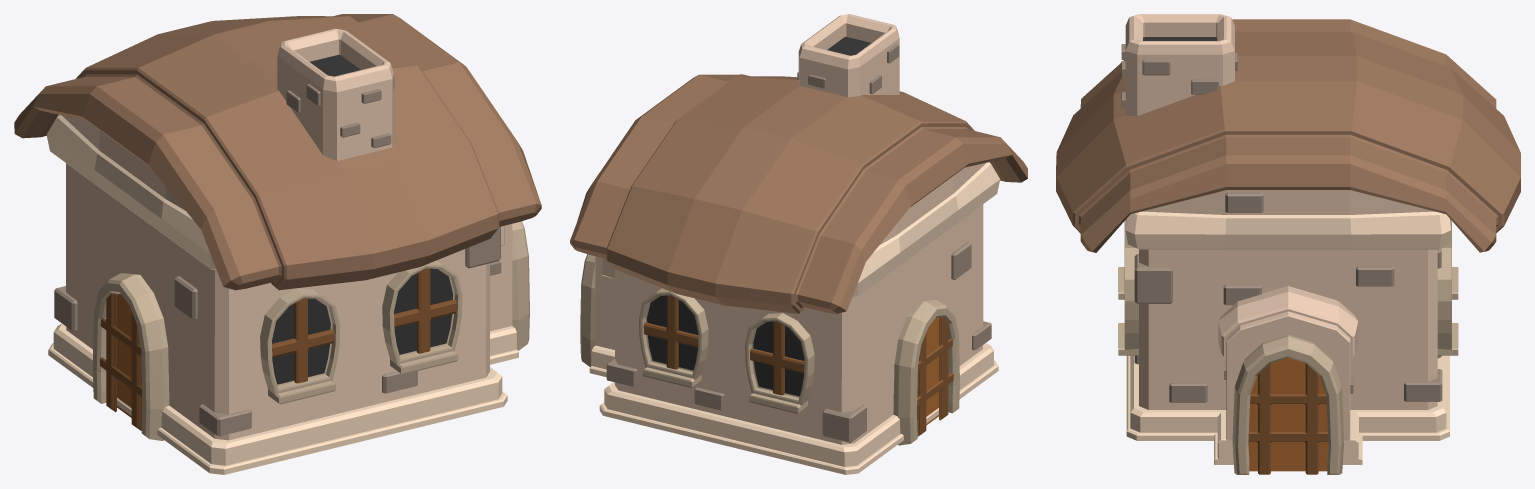
Rendered from House.fbx.
3 views of the same model, side by side, from view 1: azimuth 30°, elevation 25°; view 2: azimuth 150°, elevation 25°; view 3: azimuth 270°, elevation 25° (orthographic). The views are drawn at different scales.
Parts seen in each view (by area): view 1: Cube.105; view 2: Cube.105; view 3: Cube.105.
Part boxes in pixels (<box>): Cube.105: <box>14,14,541,474</box>; Cube.105: <box>570,14,1027,474</box>; Cube.105: <box>1056,14,1520,474</box>.
Bounding box in the file's own units: 282 × 260 × 311.
